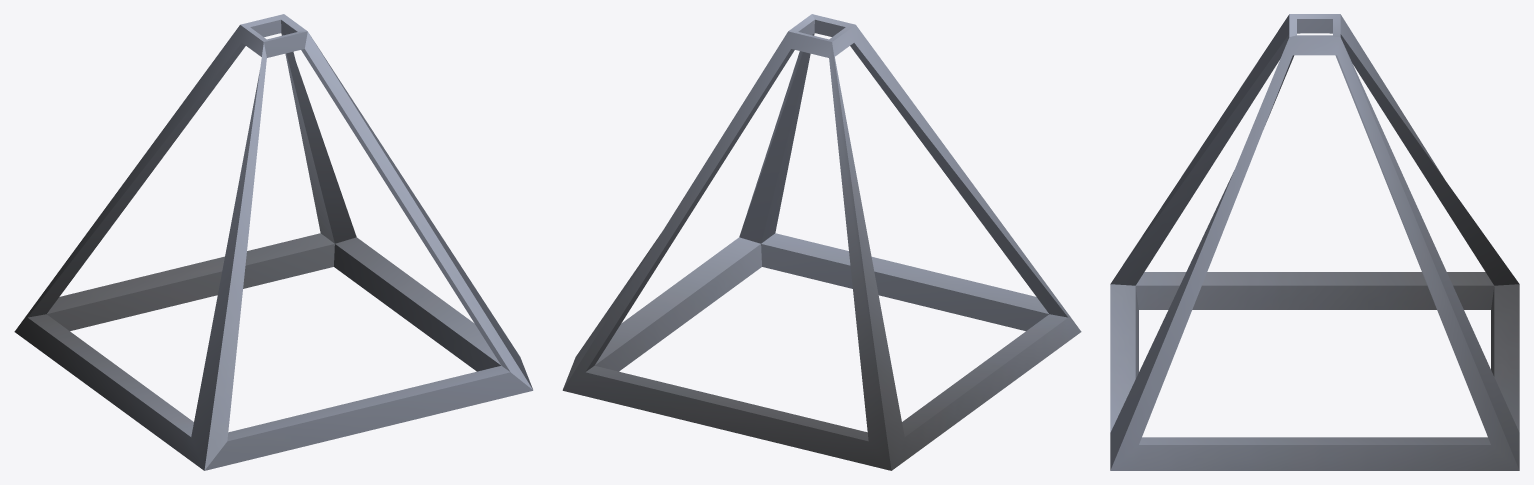
The model's file is POL0110032.fbx.
3 views of the same model, side by side, from view 1: azimuth 30°, elevation 25°; view 2: azimuth 150°, elevation 25°; view 3: azimuth 270°, elevation 25° (orthographic). The views are drawn at different scales.
Parts seen in each view (by area): view 1: smPOL0110032; view 2: smPOL0110032; view 3: smPOL0110032.
Boxes of the visible parts, bbox=[...] form: smPOL0110032: bbox=[14, 14, 533, 470]; smPOL0110032: bbox=[562, 14, 1081, 470]; smPOL0110032: bbox=[1110, 14, 1519, 470].
Size of the model in its own units: 268 by 259 by 268.
1 material, 1 textured.
